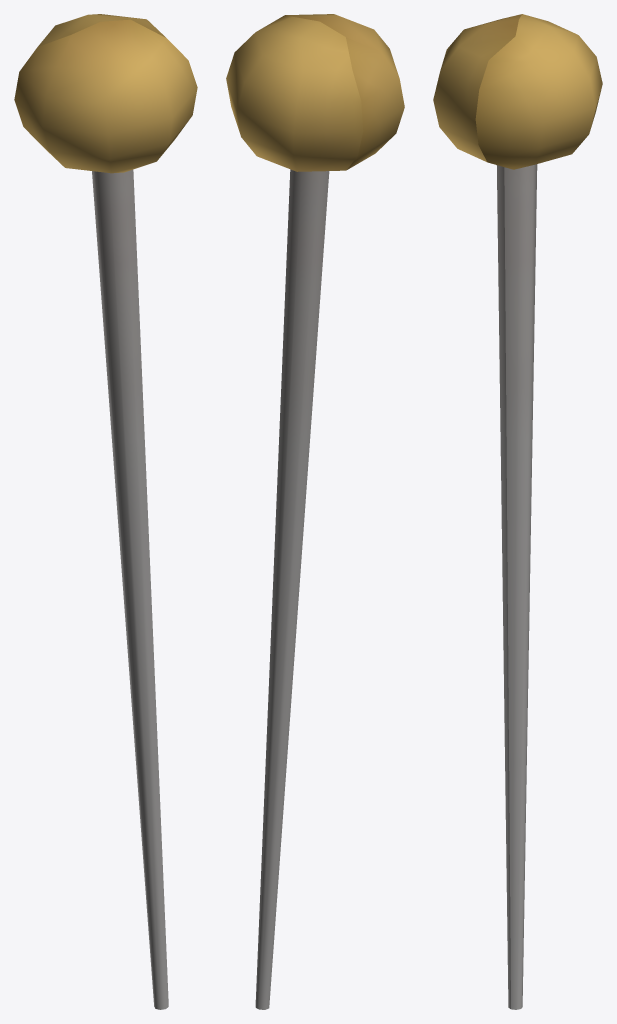
Rendered from SM_Farm_Pin_02.fbx.
3 views of the same model, side by side, from view 1: azimuth 30°, elevation 25°; view 2: azimuth 150°, elevation 25°; view 3: azimuth 270°, elevation 25° (orthographic). The views are drawn at different scales.
Parts seen in each view (by area): view 1: SM_Farm_Pin_02_LOD0; view 2: SM_Farm_Pin_02_LOD0; view 3: SM_Farm_Pin_02_LOD0.
Part boxes in pixels (x1=…): SM_Farm_Pin_02_LOD0: x1=14, y1=14, x2=197, y2=1009; SM_Farm_Pin_02_LOD0: x1=226, y1=14, x2=404, y2=1009; SM_Farm_Pin_02_LOD0: x1=433, y1=14, x2=602, y2=1009.
Bounding box in the file's own units: 2.3 × 14.41 × 2.31.
